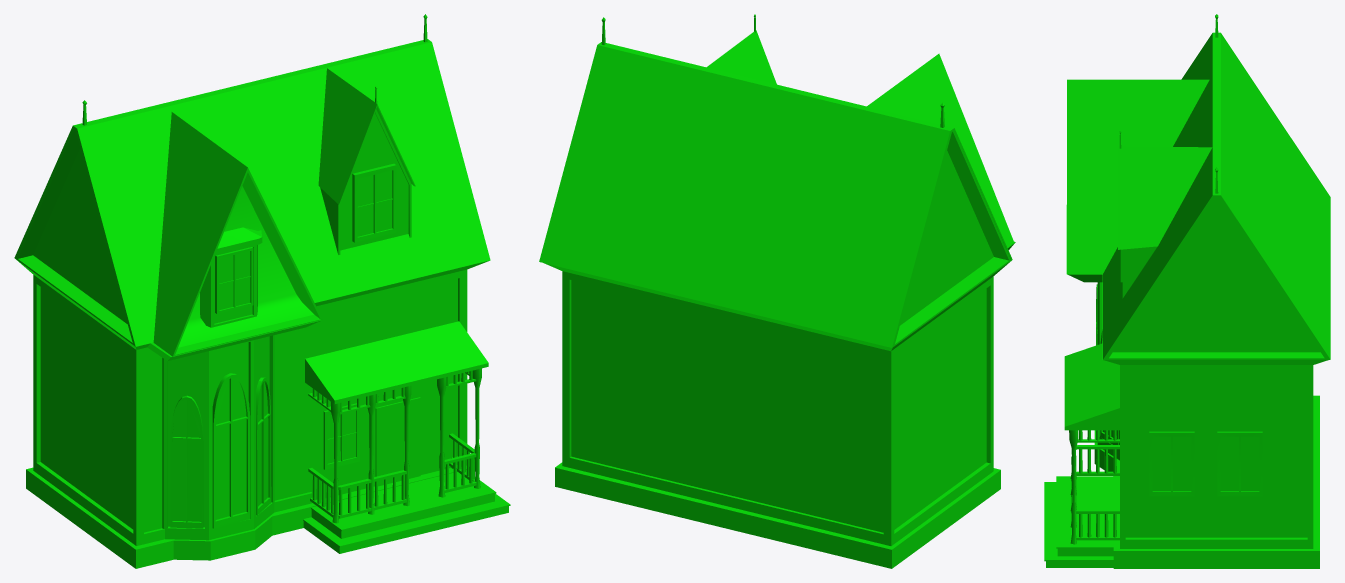
The model's file is Haus_ плюс_low.fbx.
3 renders of one model, left to right at view 1: azimuth 30°, elevation 25°; view 2: azimuth 150°, elevation 25°; view 3: azimuth 270°, elevation 25°, orthographic. The views are drawn at different scales.
Visible parts, largest first — view 1: 1.002_low, 1.001_low, 1.005_low, 1_low, 1.013_low, 1.011_low, 1.052_low, 1.006_low, 1.030_low, 1.008_low, 1.020_low, 1.029_low (+8 smaller); view 2: 1.002_low, 1.001_low, 1.005_low, 1.007_low, 1.008_low; view 3: 1.002_low, 1.001_low, 1.005_low, 1.008_low, 1.019_low, 1.011_low, 1.013_low, 1.007_low, 1.020_low, 1.022_low, 1_low, 1.012_low (+2 smaller).
Part boxes in pixels (box(x1,y1,x2,y2)): 1.002_low: box(15, 127, 477, 568); 1.001_low: box(14, 39, 490, 346); 1.005_low: box(153, 112, 322, 356); 1_low: box(162, 335, 276, 560); 1.013_low: box(305, 321, 488, 404); 1.011_low: box(303, 470, 510, 553); 1.052_low: box(170, 377, 271, 528); 1.006_low: box(173, 186, 322, 355); 1.030_low: box(212, 373, 250, 528); 1.008_low: box(318, 68, 415, 204); 1.020_low: box(320, 109, 411, 254); 1.029_low: box(375, 397, 420, 486); 1.002_low: box(555, 129, 1011, 568); 1.001_low: box(539, 42, 1012, 347); 1.005_low: box(867, 53, 1013, 246); 1.007_low: box(544, 241, 1015, 351); 1.008_low: box(707, 30, 776, 84); 1.002_low: box(1105, 196, 1328, 568); 1.001_low: box(1103, 32, 1330, 359); 1.005_low: box(1067, 79, 1209, 274); 1.008_low: box(1118, 146, 1212, 249); 1.019_low: box(1149, 431, 1262, 496); 1.011_low: box(1044, 476, 1113, 567); 1.013_low: box(1064, 343, 1119, 430); 1.007_low: box(1066, 205, 1328, 364); 1.020_low: box(1122, 246, 1157, 298); 1.022_low: box(1072, 445, 1119, 540); 1_low: box(1094, 282, 1119, 471); 1.012_low: box(1069, 430, 1078, 544).
Bounding box in the file's own units: 38.61 × 44.78 × 28.75.
